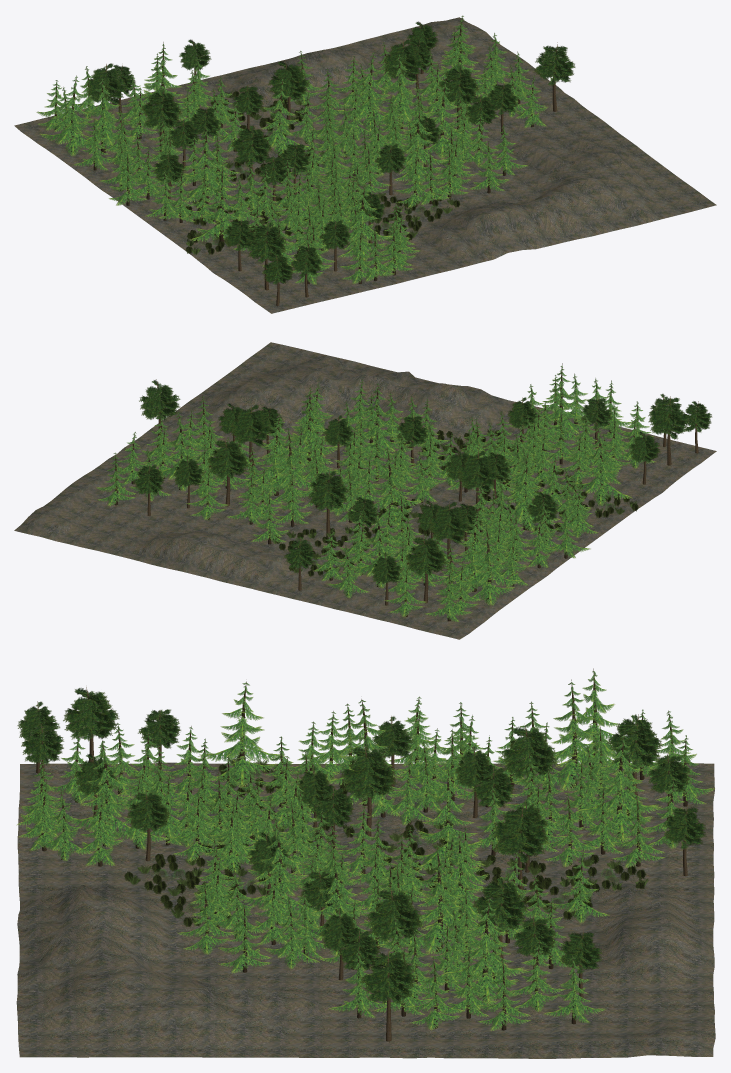
The model's file is Map.glb.
3 views of the same model, one above another, from view 1: azimuth 30°, elevation 25°; view 2: azimuth 150°, elevation 25°; view 3: azimuth 270°, elevation 25° (orthographic). The views are drawn at different scales.
Parts seen in each view (by area): view 1: Pasto, Arboles, Pinos 3, Pinos2, Pinos 4, Pinos5, Pinos, Arboles 2, Troncos1, Arbustos2, Troncos2, Arbustos3; view 2: Pasto, Arboles, Pinos2, Pinos 3, Pinos 4, Pinos5, Pinos, Arboles 2, Troncos1, Arbustos2, Troncos2, Arbustos3; view 3: Pasto, Arboles, Pinos 3, Pinos2, Pinos 4, Pinos, Pinos5, Arboles 2, Troncos1, Arbustos2, Troncos2, Arbustos3 (+1 smaller).
Part boxes in pixels (x1,y1,x2,y2): Pasto: [14, 17, 716, 313]; Arboles: [85, 39, 575, 284]; Pinos 3: [109, 16, 548, 253]; Pinos2: [36, 44, 420, 284]; Pinos 4: [46, 51, 528, 199]; Pinos5: [115, 42, 526, 205]; Pinos: [39, 76, 373, 241]; Arboles 2: [230, 21, 517, 185]; Troncos1: [54, 15, 534, 284]; Arbustos2: [182, 91, 460, 254]; Troncos2: [105, 22, 557, 306]; Arbustos3: [186, 91, 456, 254]; Pasto: [14, 342, 716, 639]; Arboles: [139, 380, 712, 583]; Pinos2: [313, 366, 656, 621]; Pinos 3: [96, 387, 622, 562]; Pinos 4: [226, 379, 519, 616]; Pinos5: [144, 383, 448, 595]; Pinos: [330, 411, 632, 605]; Arboles 2: [133, 403, 510, 527]; Troncos1: [114, 363, 637, 621]; Arbustos2: [273, 430, 638, 576]; Troncos2: [147, 379, 698, 605]; Arbustos3: [273, 429, 637, 573]; Pasto: [16, 762, 715, 1058]; Arboles: [17, 688, 706, 1003]; Pinos 3: [132, 697, 606, 1031]; Pinos2: [16, 682, 696, 868]; Pinos 4: [177, 709, 714, 973]; Pinos: [159, 671, 626, 892]; Pinos5: [190, 751, 658, 1016]; Arboles 2: [296, 747, 602, 973]; Troncos1: [39, 668, 687, 1030]; Arbustos2: [124, 755, 646, 927]; Troncos2: [36, 687, 687, 1041]; Arbustos3: [127, 757, 648, 926].
Size of the model in its own units: 83.64 by 13.74 by 81.1.
Materials: 8 (8 with a texture image).
